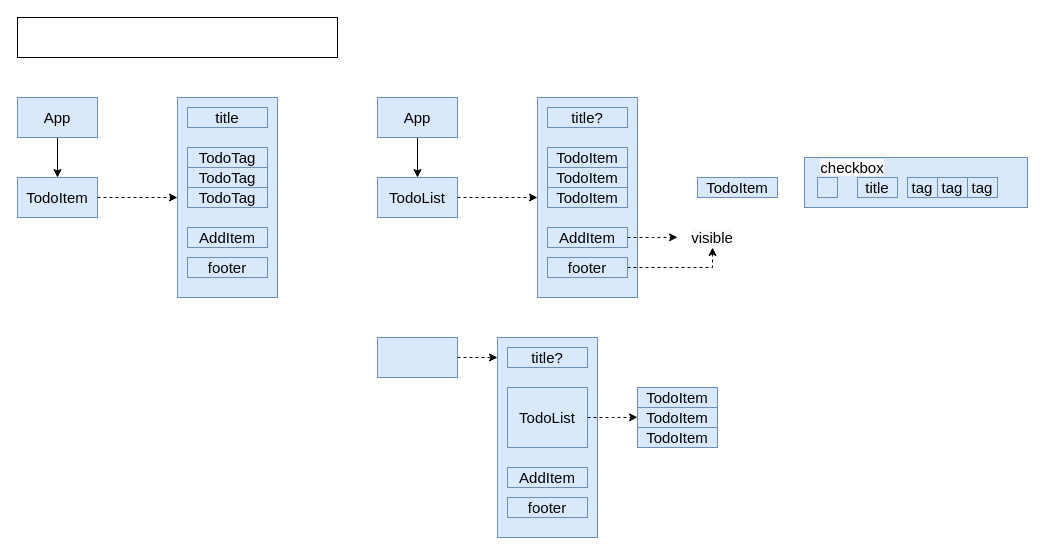
Image size: 1045x555. Some labels were removed from this diagram. The shapes that lost their labels are listed below. From the top down, each one's centre as x and y in pixels, then its label:
At point (177, 37): "目前".
At point (417, 357): "Home".
